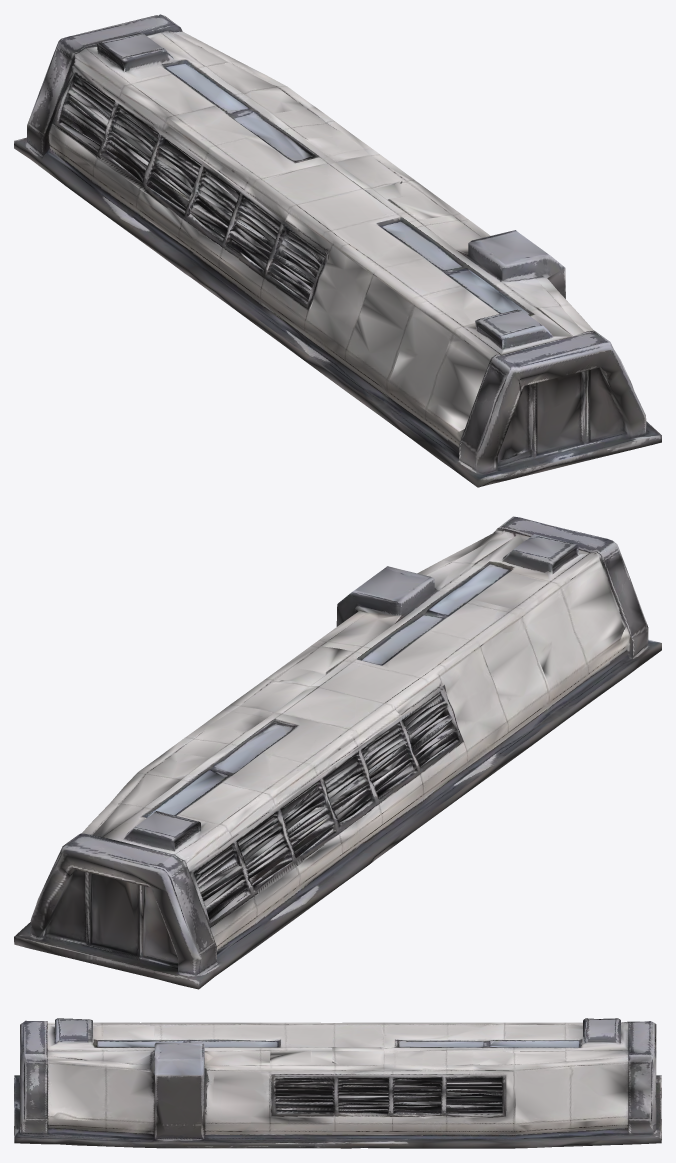
File: roofMonitor.glb
The picture shows the model from 3 angles, top to bottom: view 1: azimuth 30°, elevation 25°; view 2: azimuth 150°, elevation 25°; view 3: azimuth 270°, elevation 25°; orthographic projection. The views are drawn at different scales.
Visible parts, largest first — view 1: roofMonitor; view 2: roofMonitor; view 3: roofMonitor.
Boxes of the visible parts, x1,y1,x2,y2 form: roofMonitor: [14, 14, 661, 487]; roofMonitor: [14, 516, 661, 989]; roofMonitor: [14, 1018, 661, 1148].
Size of the model in its own units: 10 by 5.5 by 40.
Materials: 1 (1 with a texture image).
